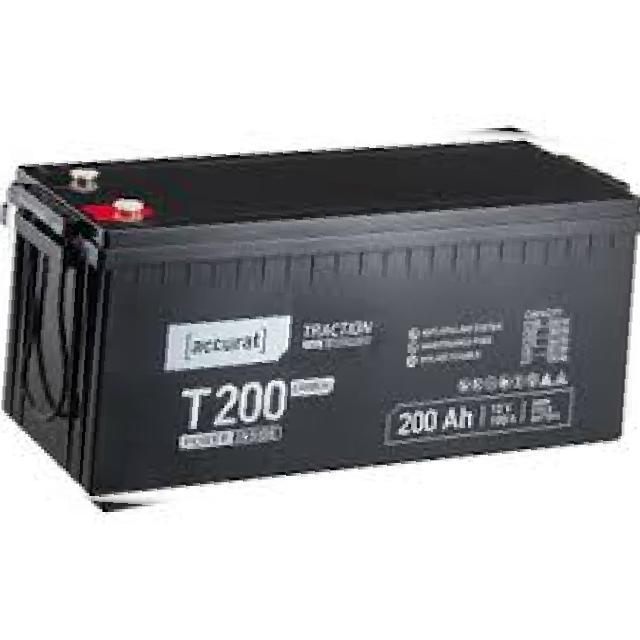Battery: (1, 109, 640, 525)
